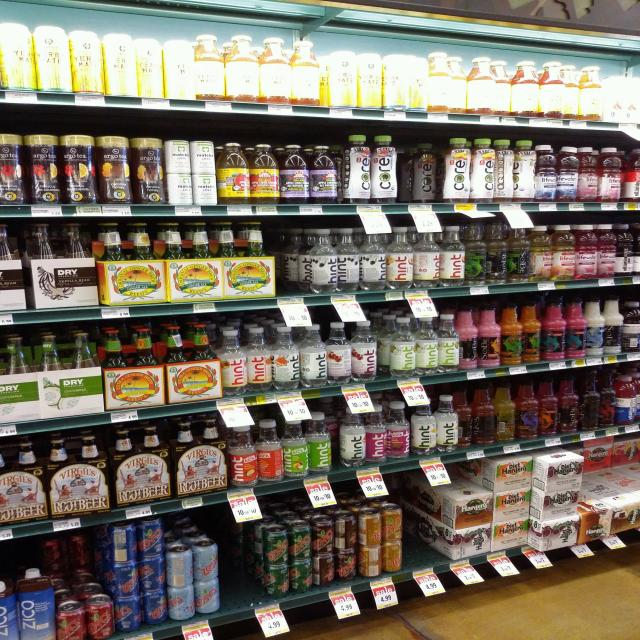void: (410, 481, 442, 610), (222, 530, 252, 638), (278, 220, 307, 313), (1, 216, 18, 332)
